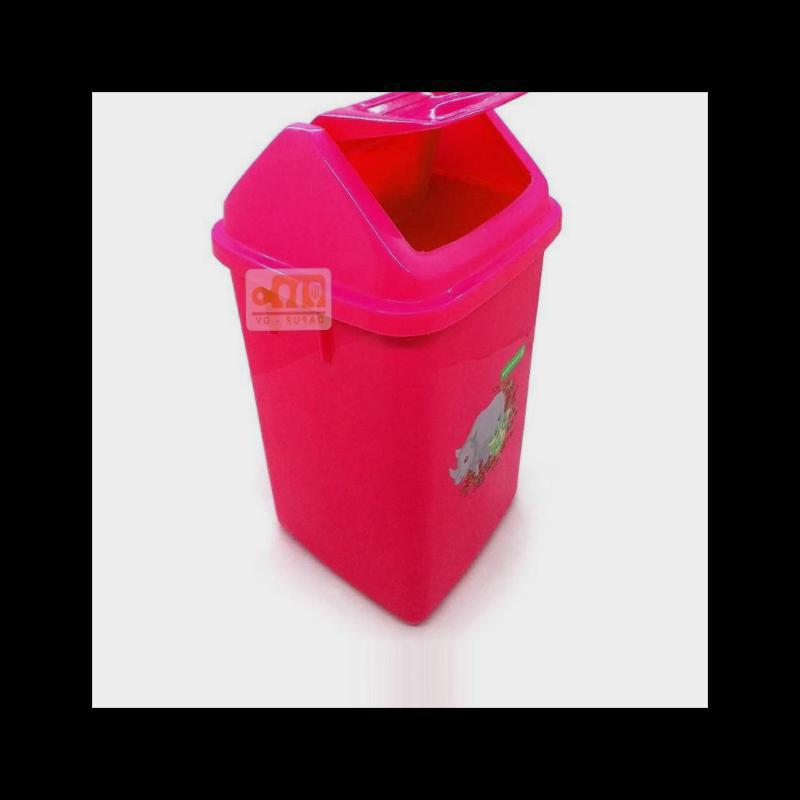Bote de Basura: (223, 92, 538, 626)
